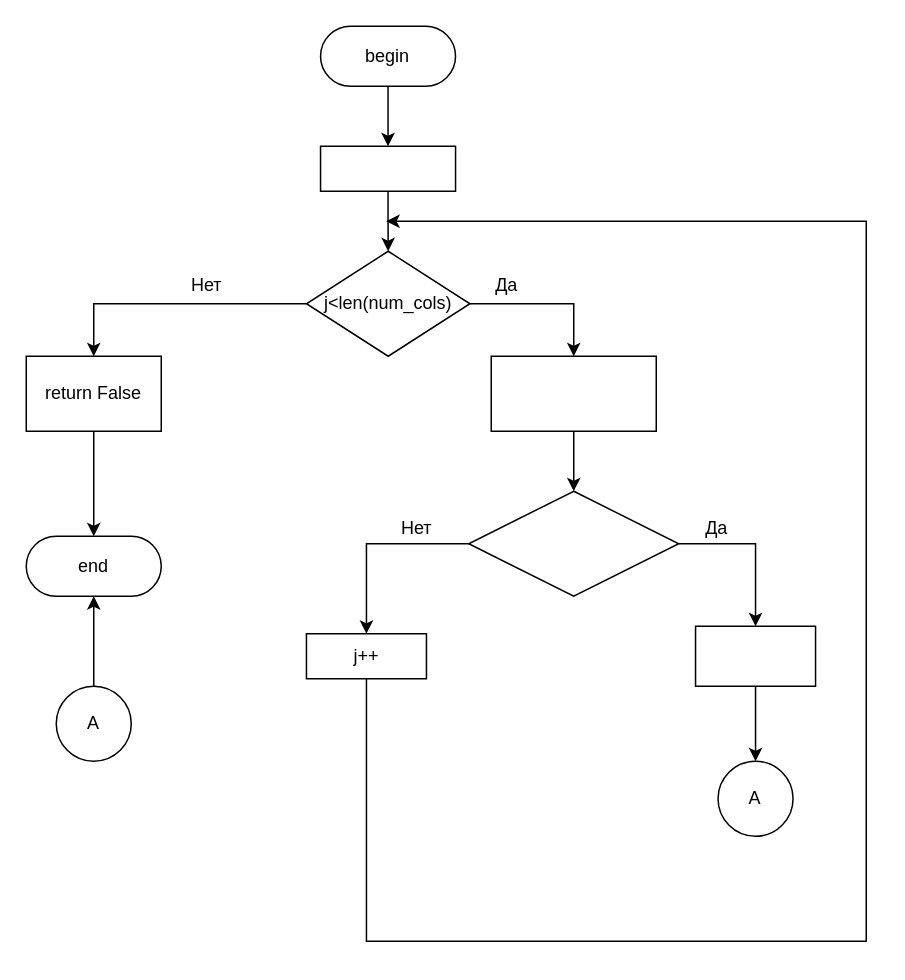
Image size: 905x980. Some labels were removed from this diagram. The shapes that lost their labels are listed below. From the top down, each one's centre as x and y in pixels, then its label:
point 387,168: j=0
point 573,393: target = output_values[j]
point 573,543: B_U[j] < target or B_L[j] > target
point 755,655: return True
